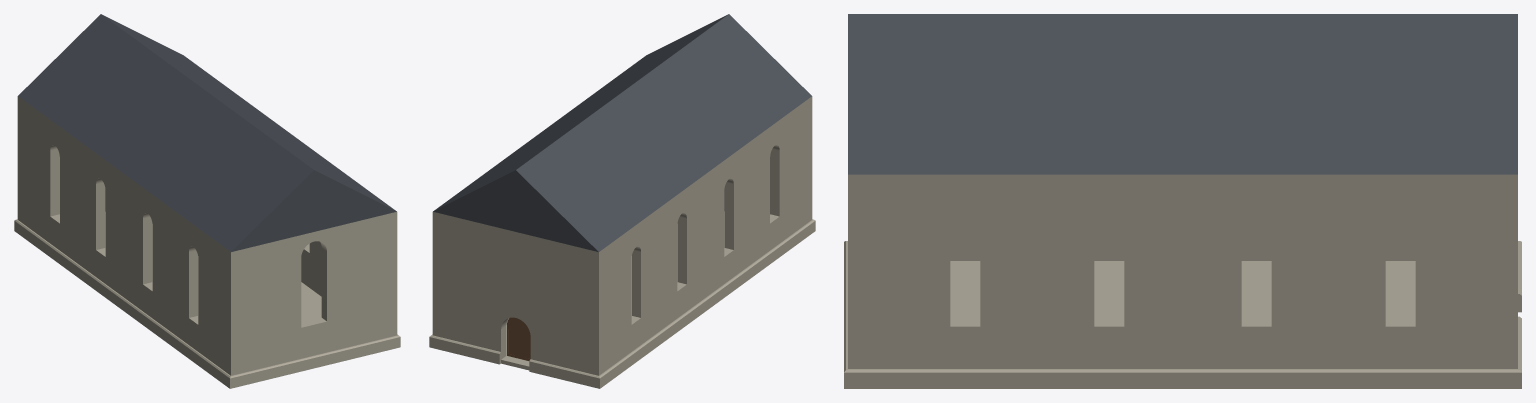
The picture shows the model from 3 angles, left to right: view 1: azimuth 30°, elevation 25°; view 2: azimuth 150°, elevation 25°; view 3: azimuth 270°, elevation 25°; orthographic projection. The views are drawn at different scales.
Visible parts, largest first — view 1: body_stone, roof_slate, trim_stone; view 2: body_stone, roof_slate, trim_stone, door_timber; view 3: body_stone, roof_slate, trim_stone.
Boxes of the visible parts, left/top/right/bottom form: body_stone: left=17, top=96, right=397, bottom=375; roof_slate: left=18, top=14, right=396, bottom=251; trim_stone: left=14, top=219, right=400, bottom=388; body_stone: left=432, top=96, right=812, bottom=375; roof_slate: left=433, top=14, right=811, bottom=251; trim_stone: left=429, top=219, right=815, bottom=388; door_timber: left=507, top=317, right=530, bottom=360; body_stone: left=848, top=174, right=1517, bottom=368; roof_slate: left=848, top=14, right=1517, bottom=174; trim_stone: left=844, top=241, right=1521, bottom=388.
Size of what is drawn, in the model's own units: 9.24 by 10.2 by 20.24.
